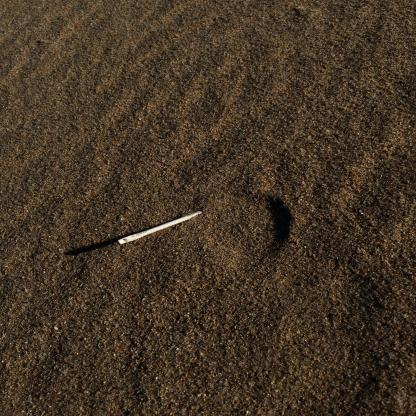plastik: (117, 210, 203, 244)
